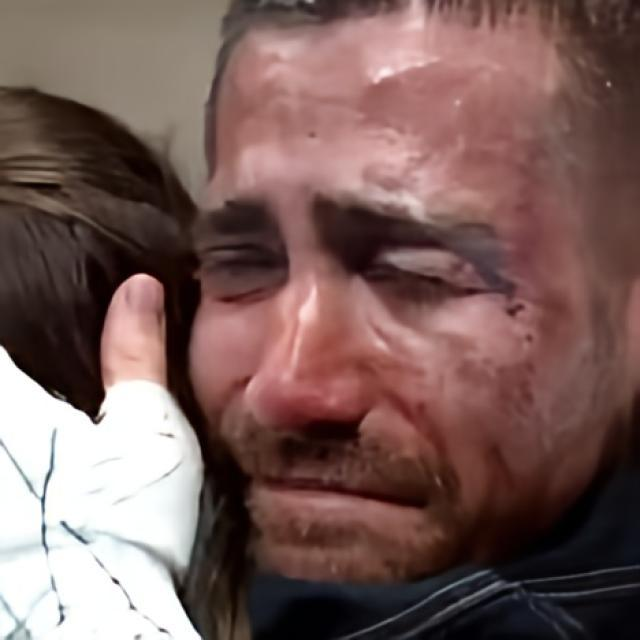sad: (186, 4, 640, 588)
